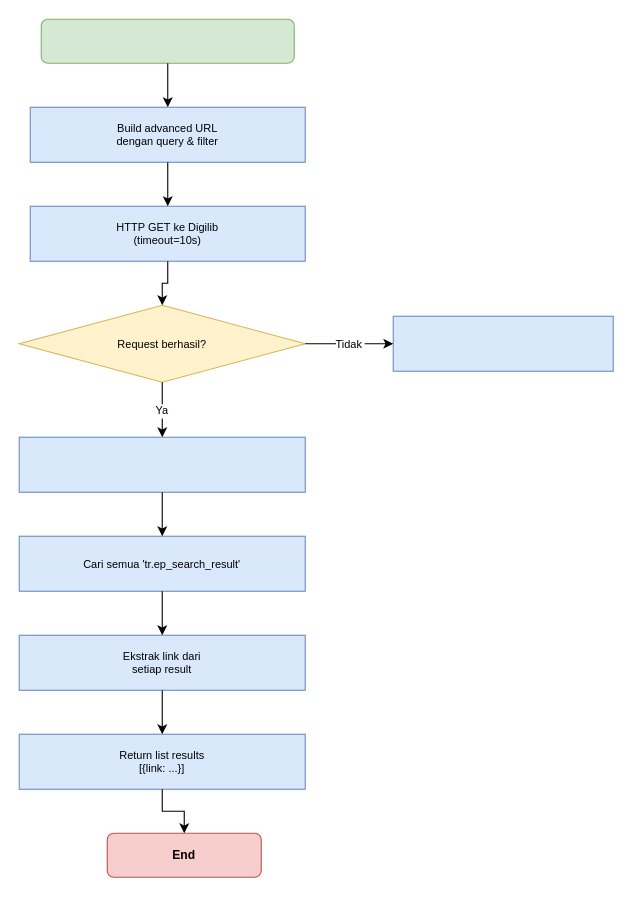
The diagram is 633 pixels wide and 897 high, and some of its shapes have lost their labels. The centre of each missing label's shape, as x and y in pixels:
"Parse HTML dengan BeautifulSoup" belongs at (x=161, y=464).
"Print error & return []" belongs at (x=502, y=343).
"Start: search_repository()" belongs at (x=167, y=40).
